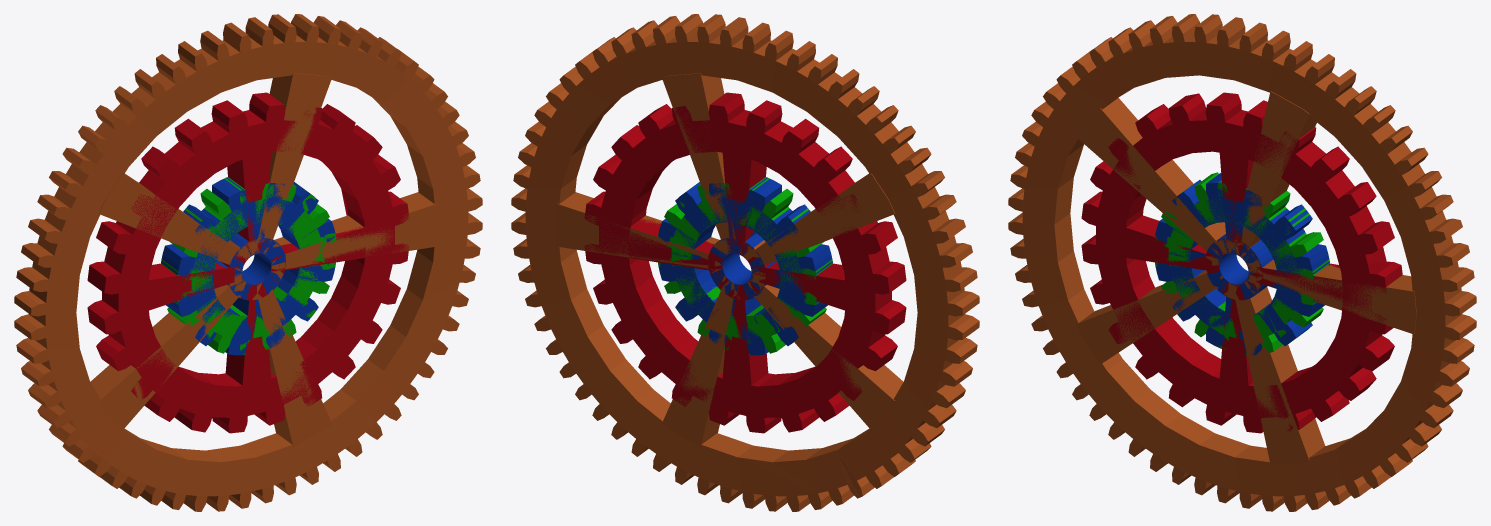
File: rodas-dentadas.obj
3 views of the same model, side by side, from view 1: azimuth 30°, elevation 25°; view 2: azimuth 150°, elevation 25°; view 3: azimuth 330°, elevation 25° (orthographic).
Visible parts, largest first — view 1: r3-60, r2-24, r1-12, r1-20; view 2: r3-60, r2-24, r1-12, r1-20; view 3: r3-60, r2-24, r1-12, r1-20.
Part boxes in pixels (x1,y1,x2,y2): r3-60: (14,14,482,511); r2-24: (87,92,409,433); r1-12: (161,177,335,355); r1-20: (161,177,336,354); r3-60: (511,14,979,511); r2-24: (584,92,906,433); r1-12: (658,177,832,355); r1-20: (658,177,832,354); r3-60: (1008,14,1476,511); r2-24: (1081,92,1402,433); r1-12: (1155,173,1329,355); r1-20: (1155,172,1329,354).
Size of the model in its own units: 6.2 by 6.2 by 0.4.
